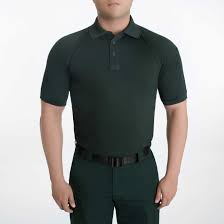C_polo shirt: (43, 18, 192, 157)
